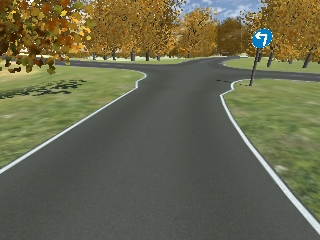left: (253, 29, 272, 47)
